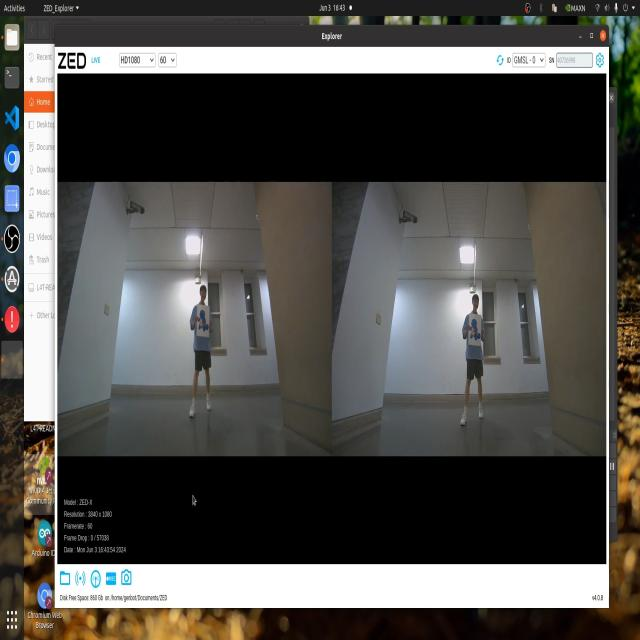blue: (468, 312, 485, 347), (199, 308, 213, 339)
